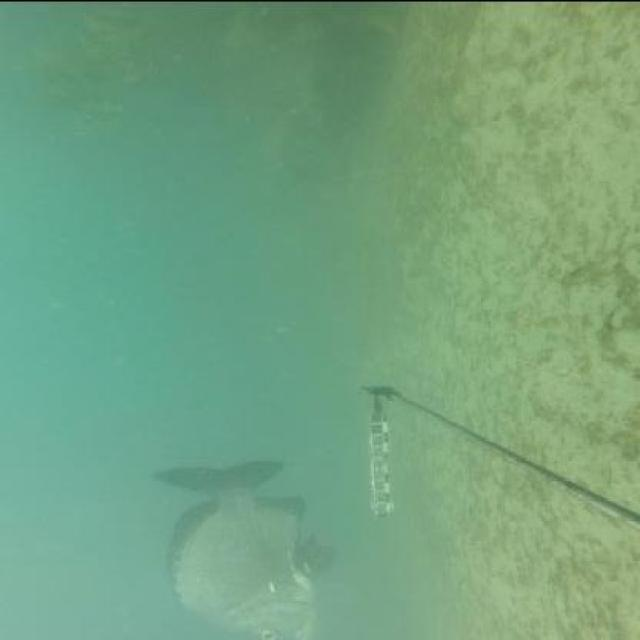acanthopagrus_palmaris: (157, 452, 346, 638)
